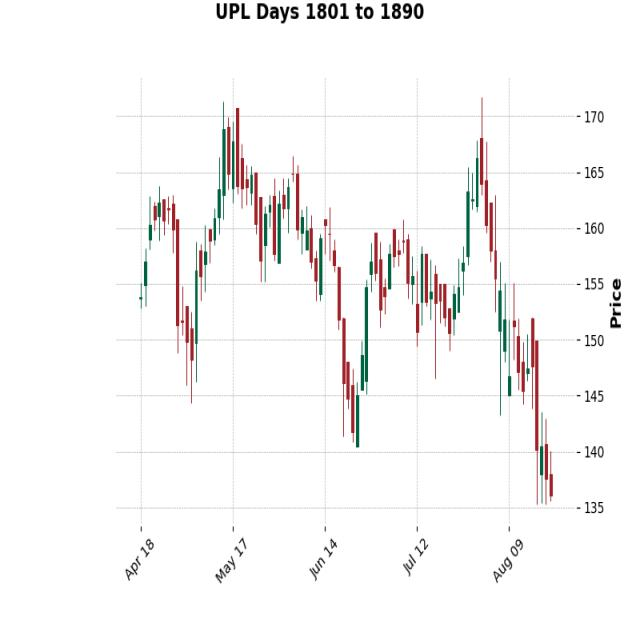flag-and-pole: (357, 79, 482, 452)
